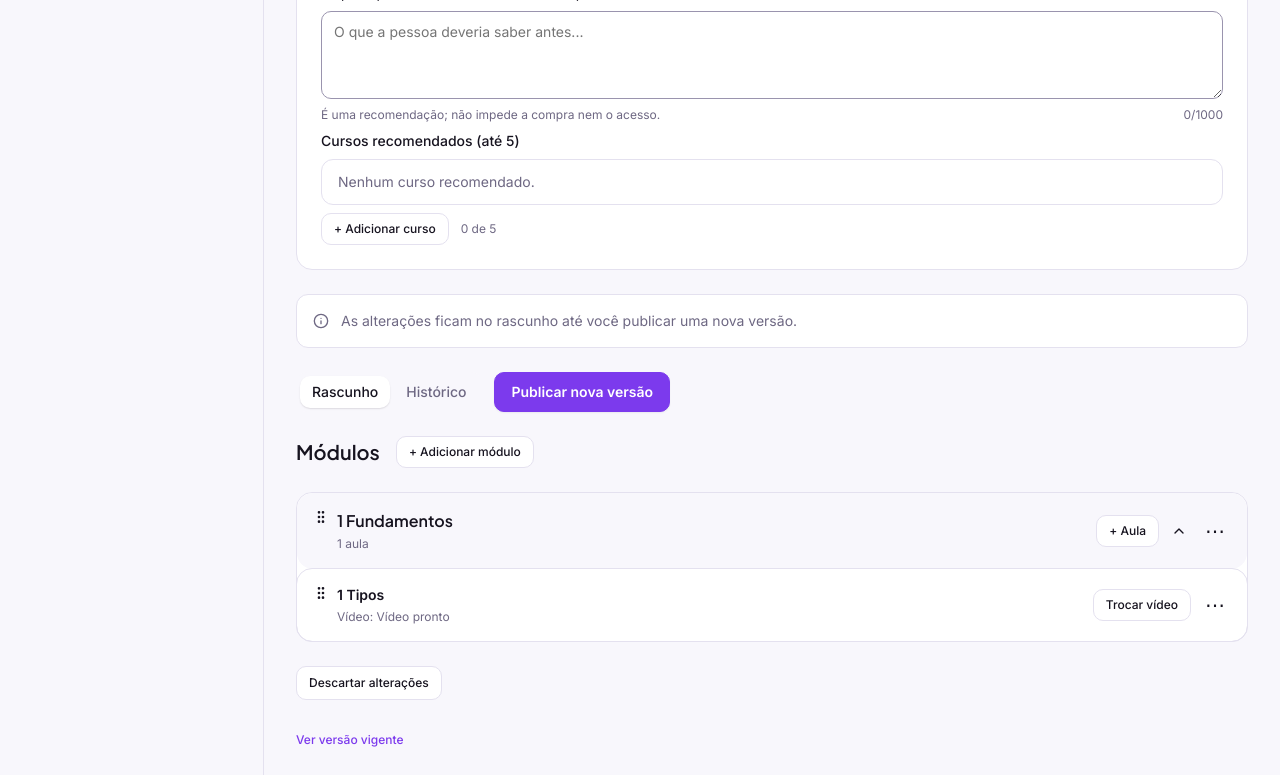
Test: authoring versions › canceling discard makes no request and confirming restores current content and clears the change indicator
The width and height of the screenshot is (1280, 775).
(page scrolled)
Click the button "Descartar alterações" at (369, 683), box x1=296 y1=666 x2=442 y2=700
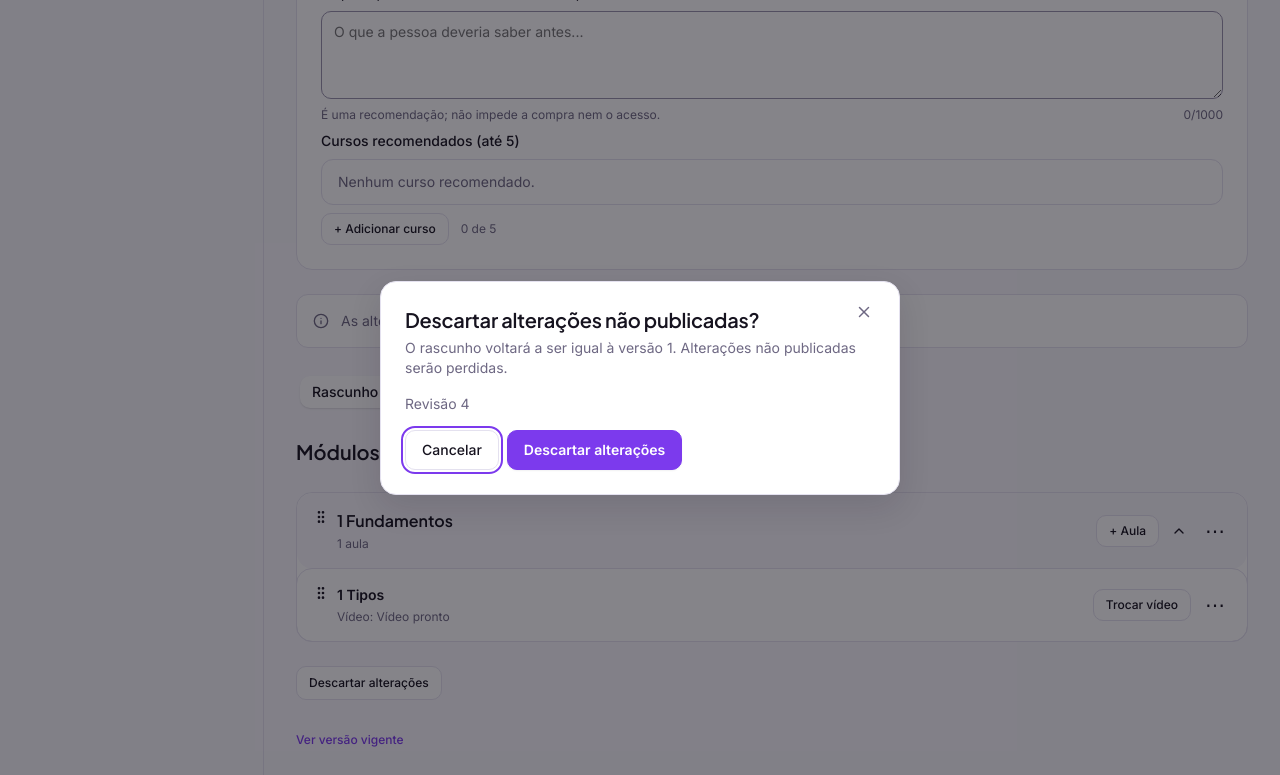
Click the button "Cancelar" at (452, 450), box x1=405 y1=430 x2=499 y2=470
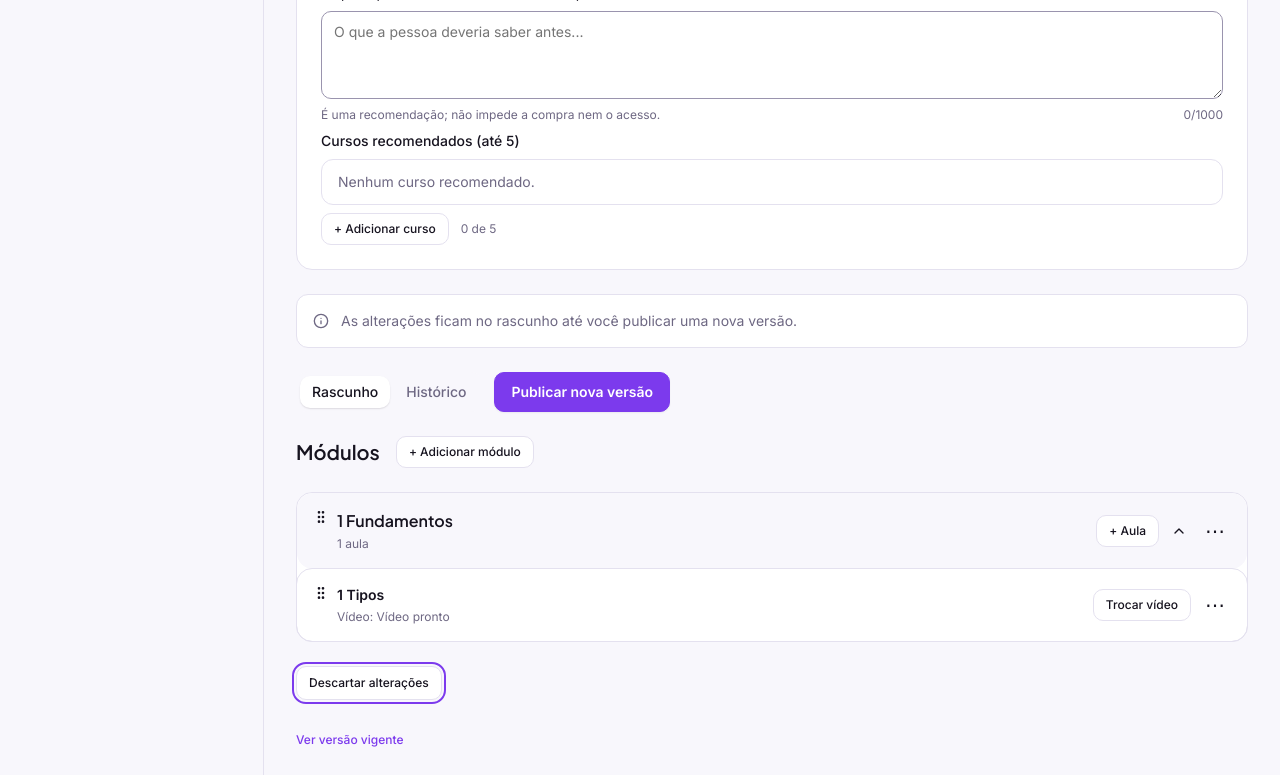
Click the button "Descartar alterações" at (369, 683), box x1=296 y1=666 x2=442 y2=700
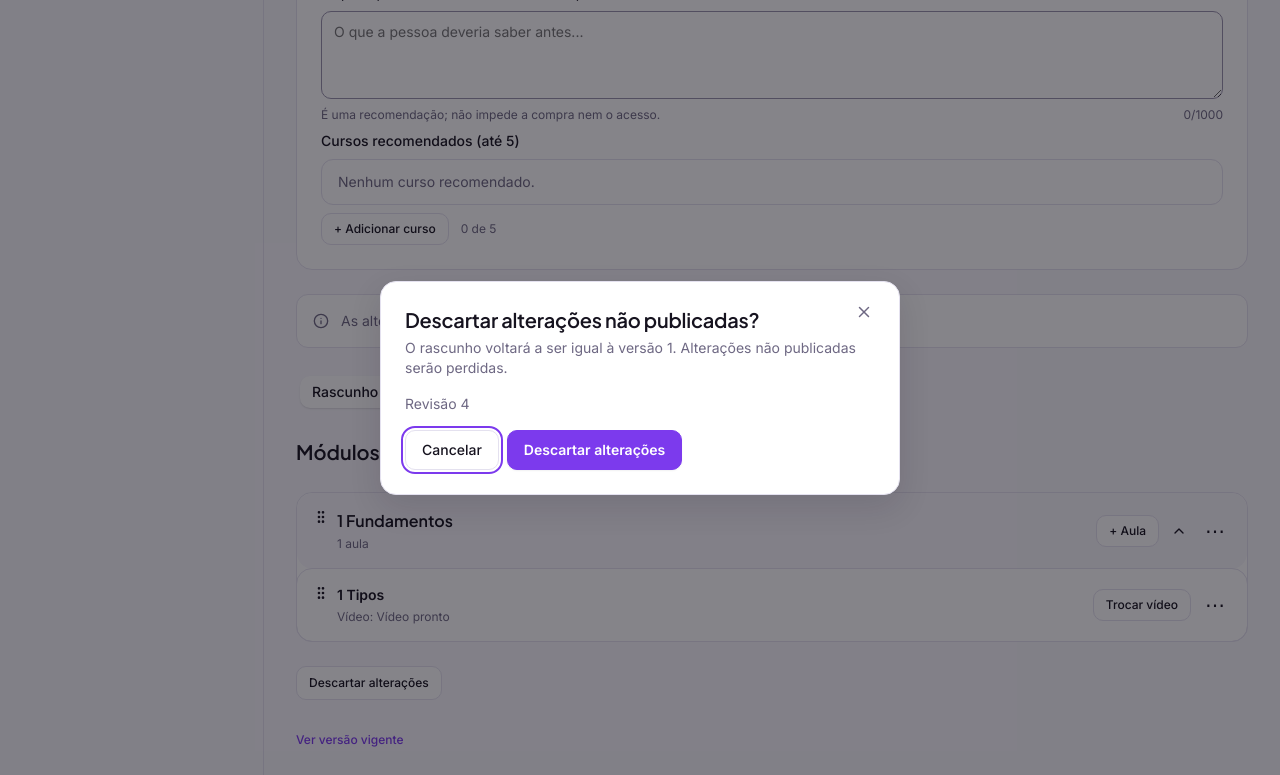
Click the button "Descartar alterações" below "Revisão" at (595, 450), box x1=507 y1=430 x2=682 y2=470
(page scrolled)
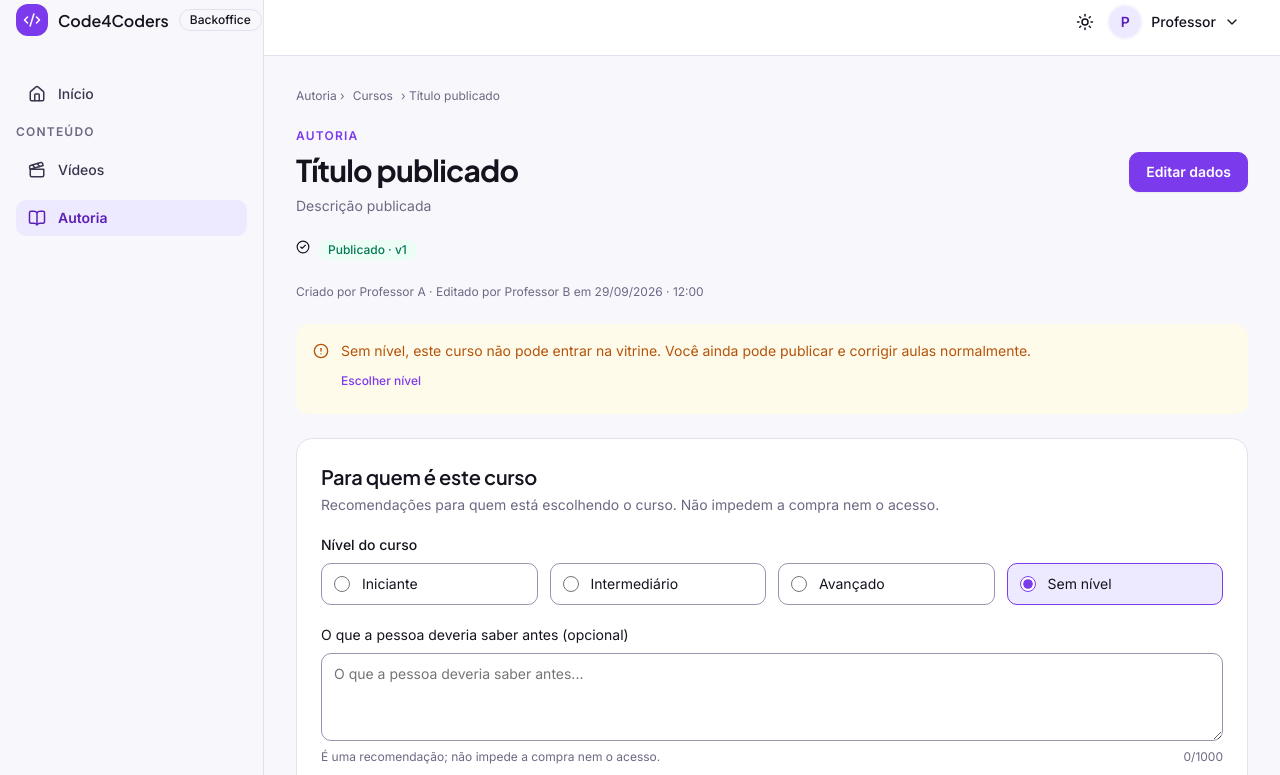
Expected: the text "Publicado · v1" is shown, x1=318 y1=240 x2=417 y2=260
Expected: the heading "Título publicado" is shown, x1=296 y1=151 x2=518 y2=189
Expected: the button "Descartar alterações" is gone
